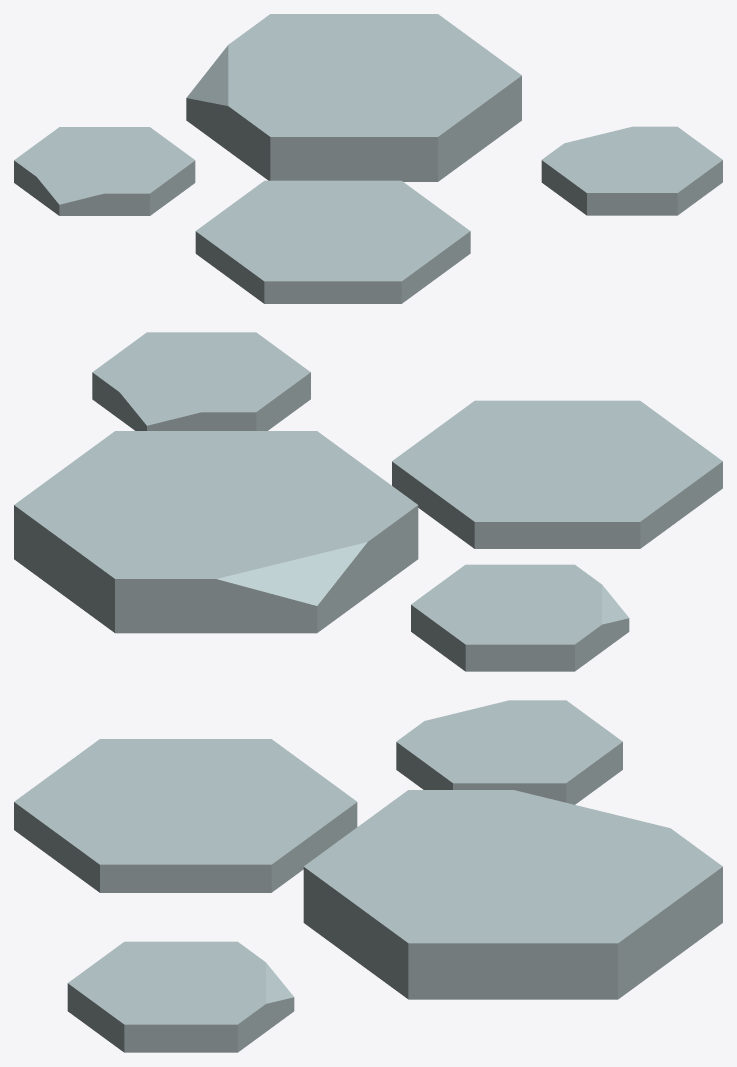
The model's file is path_stoneEnd.glb.
The picture shows the model from 3 angles, top to bottom: view 1: azimuth 30°, elevation 25°; view 2: azimuth 150°, elevation 25°; view 3: azimuth 270°, elevation 25°; orthographic projection. The views are drawn at different scales.
Parts seen in each view (by area): view 1: path_stoneEnd; view 2: path_stoneEnd; view 3: path_stoneEnd.
Boxes of the visible parts, x1,y1,x2,y2 form: path_stoneEnd: (14, 14, 722, 303); path_stoneEnd: (14, 332, 722, 671); path_stoneEnd: (14, 700, 722, 1052).
Size of the model in its own units: 0.6182 by 0.05 by 0.571.
